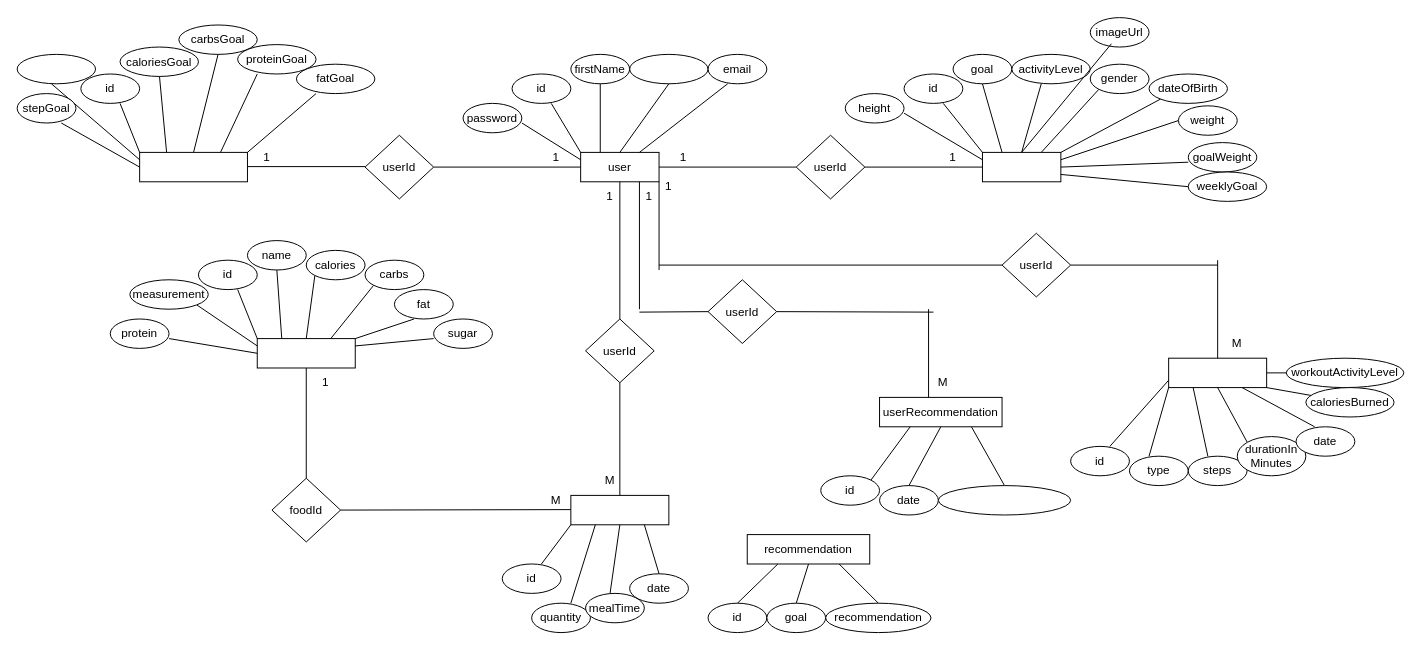
This 1421x650 diagram has some shape labels left out. The box of each missing label's shape, as (x1, y1, x2, y2) in pixels:
exercise: (1168, 357, 1267, 388)
filledRecommendation: (937, 485, 1071, 515)
food: (256, 338, 355, 368)
foodIntake: (570, 494, 669, 525)
lastName: (629, 53, 708, 84)
nutritionsAndGoals: (139, 151, 247, 182)
userProfile: (981, 151, 1061, 182)
waterGoal: (16, 53, 96, 84)
